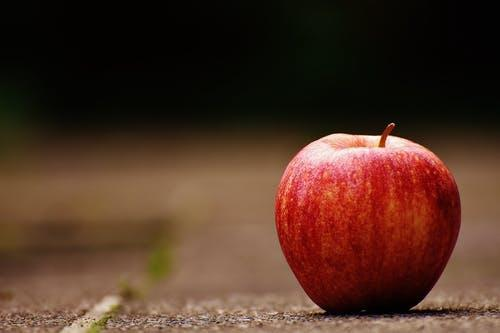apple: (276, 124, 465, 312)
